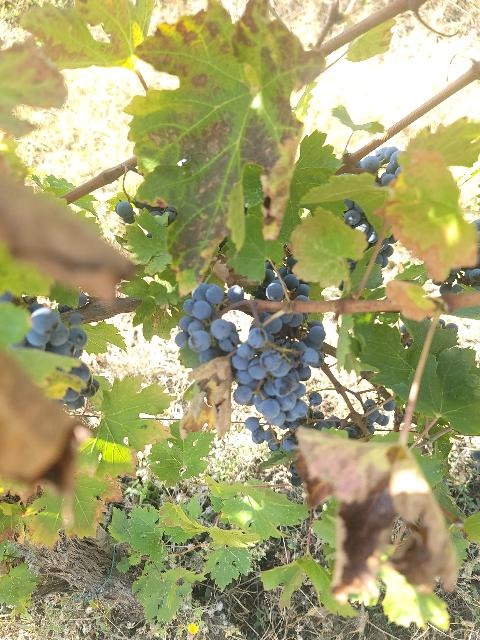grapes: (231, 328, 320, 429), (175, 282, 239, 362)
